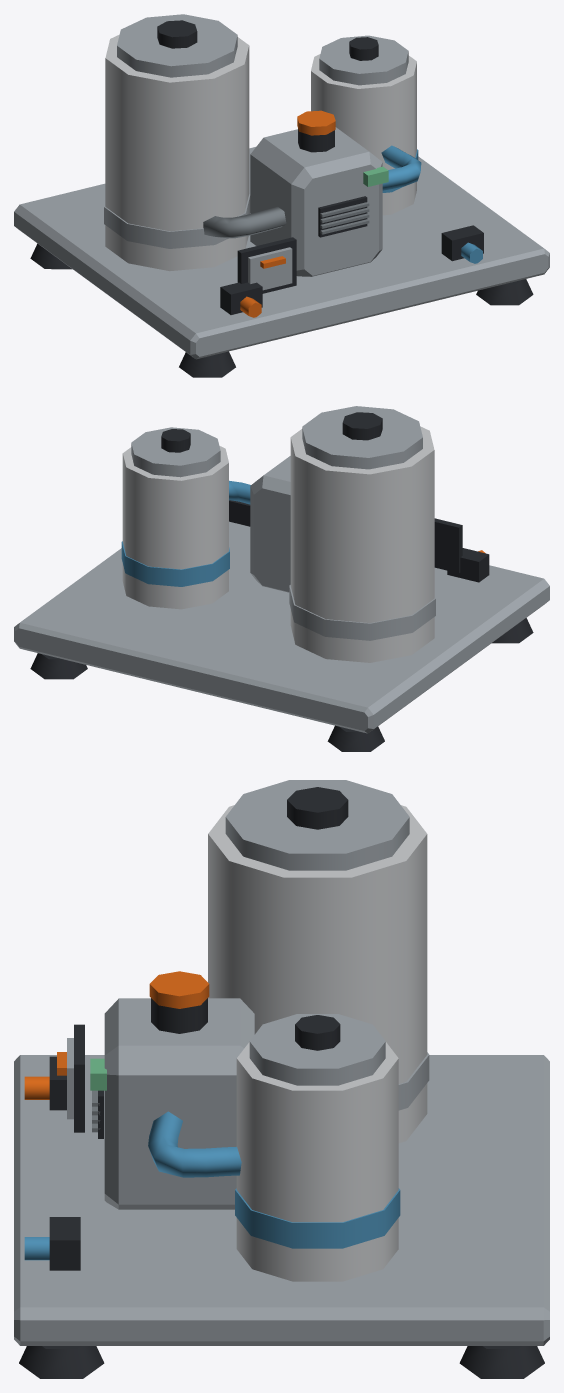
The model's file is water_recycler.glb.
The picture shows the model from 3 angles, top to bottom: view 1: azimuth 30°, elevation 25°; view 2: azimuth 150°, elevation 25°; view 3: azimuth 270°, elevation 25°; orthographic projection. The views are drawn at different scales.
Visible parts, largest first — view 1: static_body_mesh.004, service_panel_mesh.004, filter_cartridge_mesh; view 2: static_body_mesh.004, service_panel_mesh.004; view 3: static_body_mesh.004, filter_cartridge_mesh, service_panel_mesh.004.
Part boxes in pixels (x1=…): static_body_mesh.004: x1=14, y1=14, x2=549, y2=377; service_panel_mesh.004: x1=237, y1=237, x2=296, y2=293; filter_cartridge_mesh: x1=297, y1=110, x2=335, y2=152; static_body_mesh.004: x1=14, y1=406, x2=549, y2=751; service_panel_mesh.004: x1=434, y1=518, x2=462, y2=573; static_body_mesh.004: x1=14, y1=780, x2=549, y2=1378; filter_cartridge_mesh: x1=149, y1=971, x2=209, y2=1033; service_panel_mesh.004: x1=57, y1=1024, x2=84, y2=1132.
Bounding box in the file's own units: 2.59 × 1.8 × 2.25.
